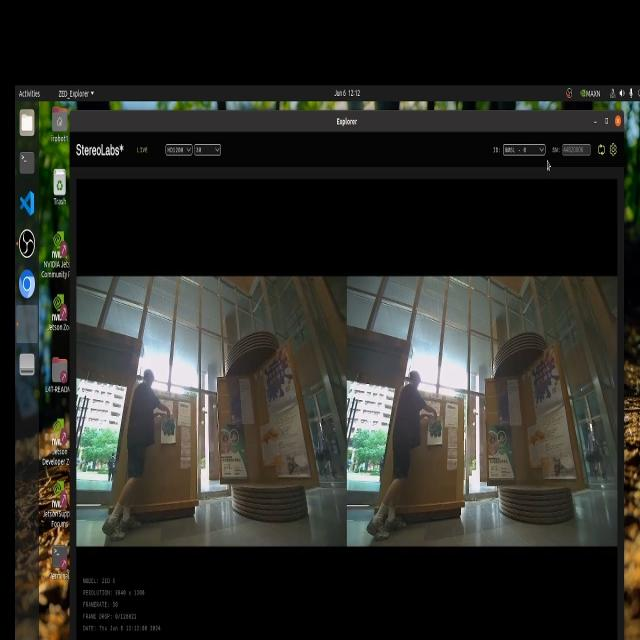green: (165, 406, 179, 442), (428, 421, 442, 448)
